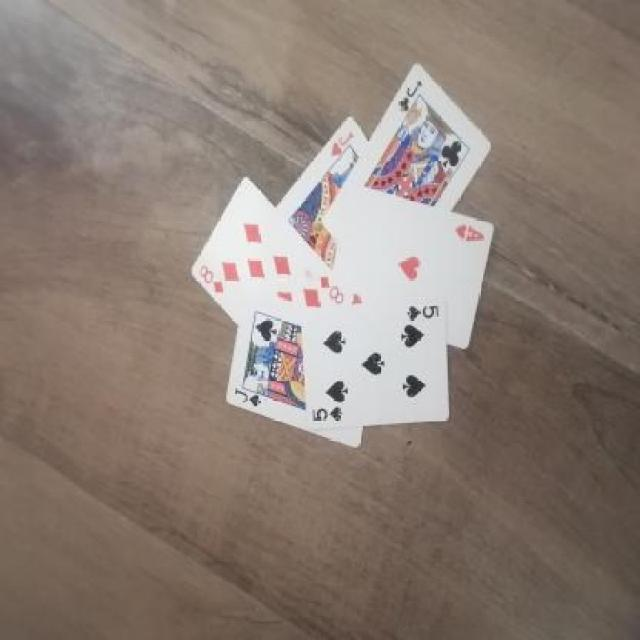5S: (308, 403, 347, 428), (403, 304, 445, 324)
8D: (192, 262, 228, 301)
AH: (452, 224, 490, 244)
JC: (398, 82, 427, 118)
JH: (324, 128, 354, 160)
JS: (236, 381, 264, 414)
